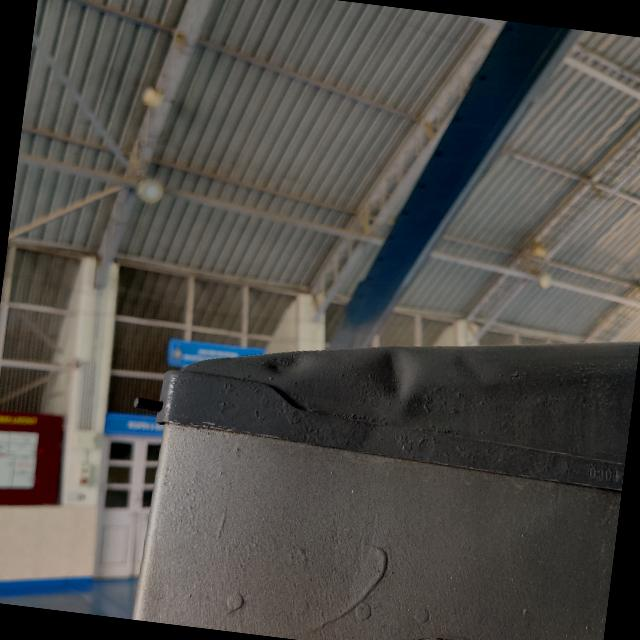dent: (362, 339, 424, 410), (256, 339, 312, 386)
